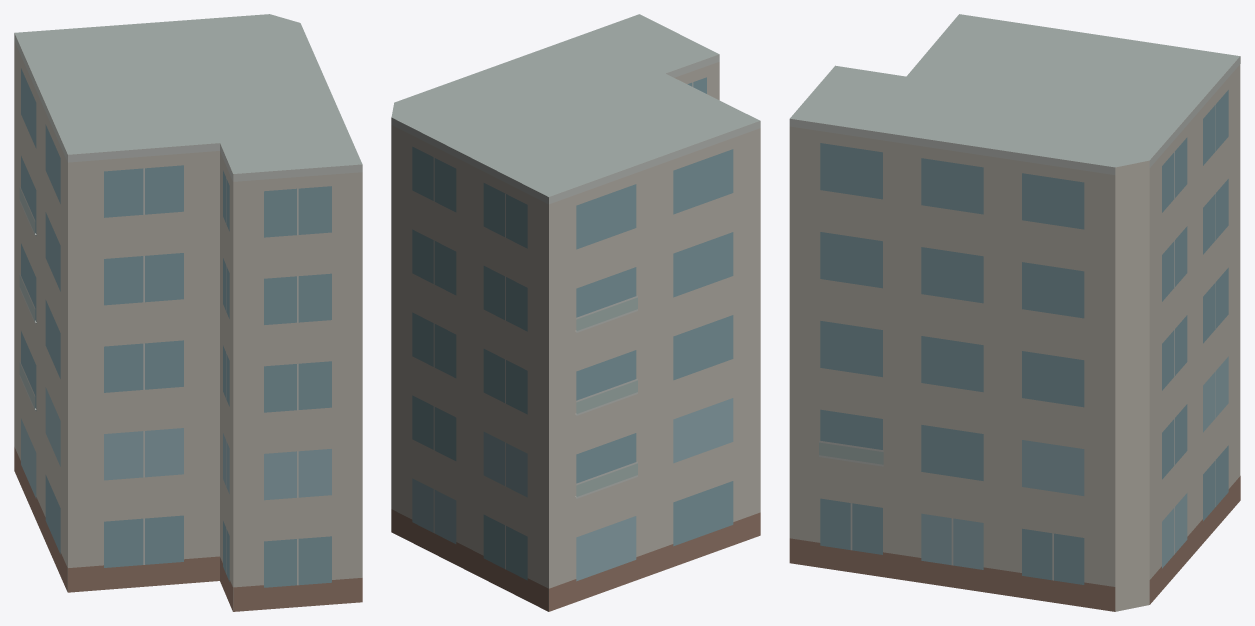
Rendered from survey-upis-32953094.glb.
The picture shows the model from 3 angles, left to right: view 1: azimuth 30°, elevation 25°; view 2: azimuth 150°, elevation 25°; view 3: azimuth 270°, elevation 25°; orthographic projection. The views are drawn at different scales.
Visible parts, largest first — view 1: survey-upis-32953094.tmp; view 2: survey-upis-32953094.tmp; view 3: survey-upis-32953094.tmp.
Part boxes in pixels (left/top/right/bottom): survey-upis-32953094.tmp: left=14, top=14, right=362, bottom=611; survey-upis-32953094.tmp: left=391, top=14, right=760, bottom=611; survey-upis-32953094.tmp: left=789, top=14, right=1240, bottom=611.
Bounding box in the file's own units: 10.23 × 13.8 × 12.69.
